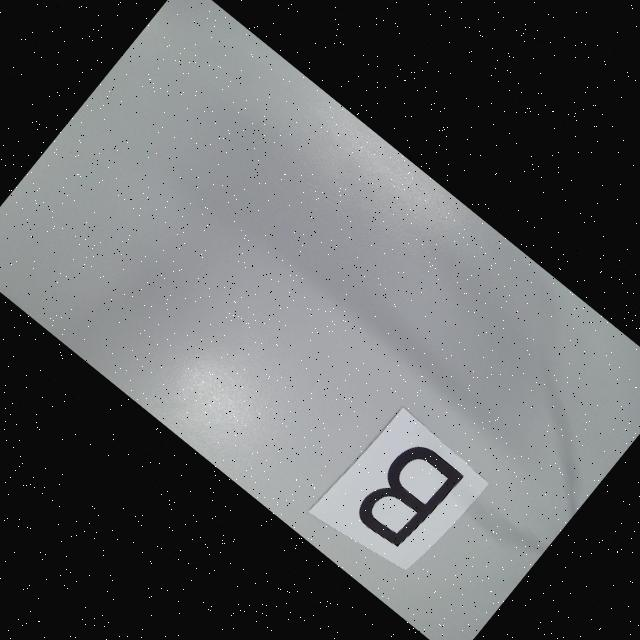FAKE: (350, 436, 463, 555)
